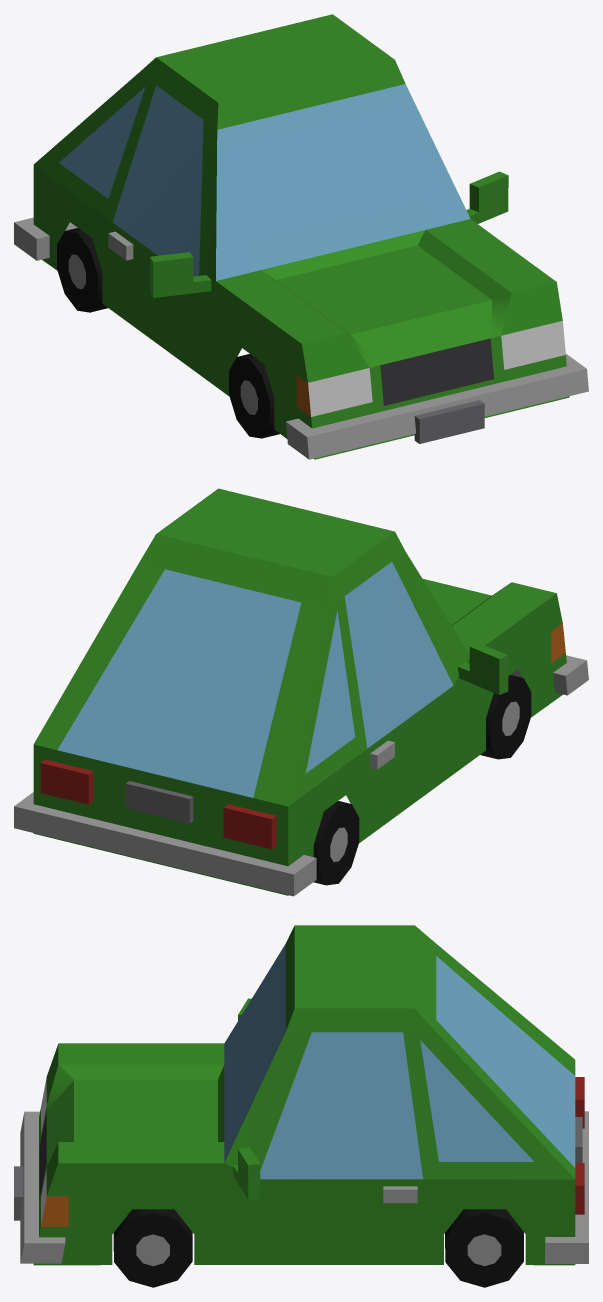
The model's file is Car_06_green.fbx.
The picture shows the model from 3 angles, top to bottom: view 1: azimuth 30°, elevation 25°; view 2: azimuth 150°, elevation 25°; view 3: azimuth 270°, elevation 25°; orthographic projection. The views are drawn at different scales.
Parts seen in each view (by area): view 1: Car_06_green; view 2: Car_06_green; view 3: Car_06_green.
Boxes of the visible parts, <box> form: Car_06_green: <box>14,14,588,459</box>; Car_06_green: <box>14,488,588,896</box>; Car_06_green: <box>14,925,588,1287</box>.
Bounding box in the file's own units: 60.1 × 43.58 × 87.47.
